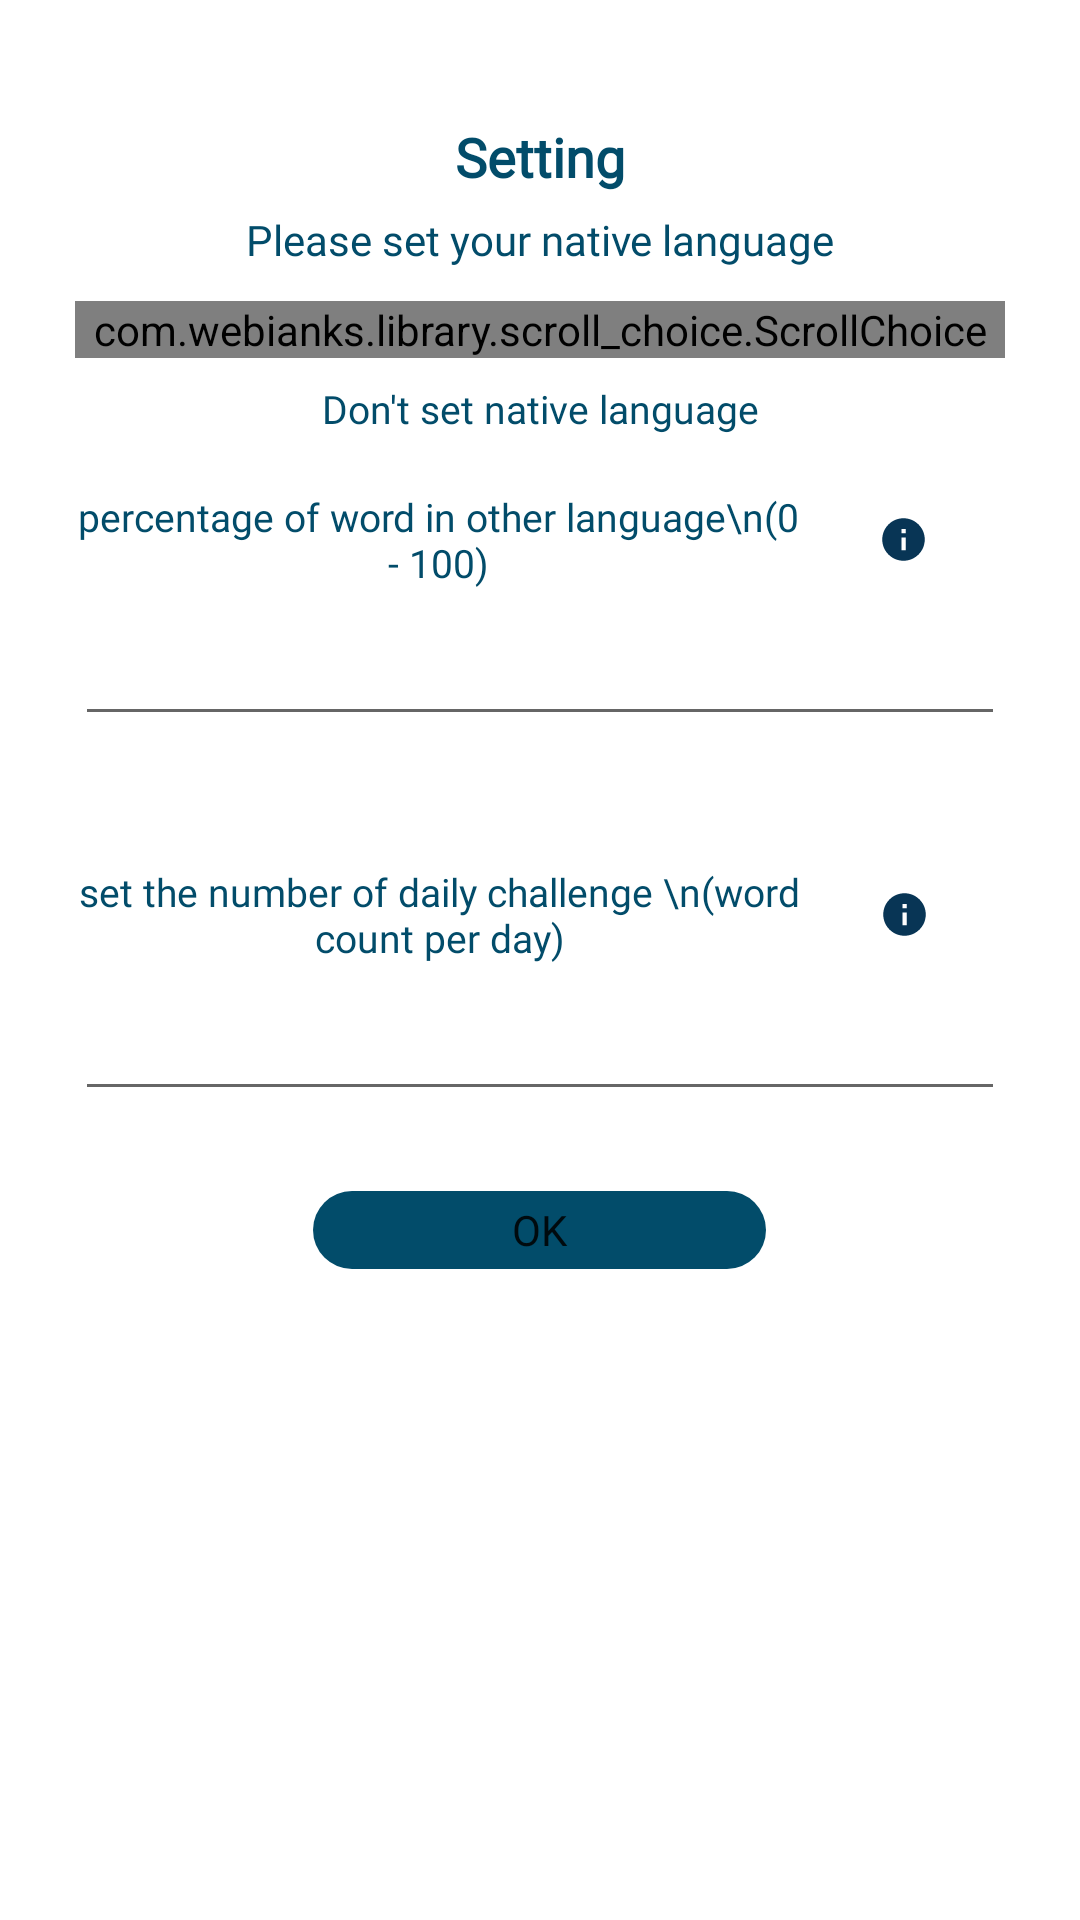

Icons on this 1080 x 1920 Android screen, each with the point to tap as (x,y):
info: (903,539), (904,914)
